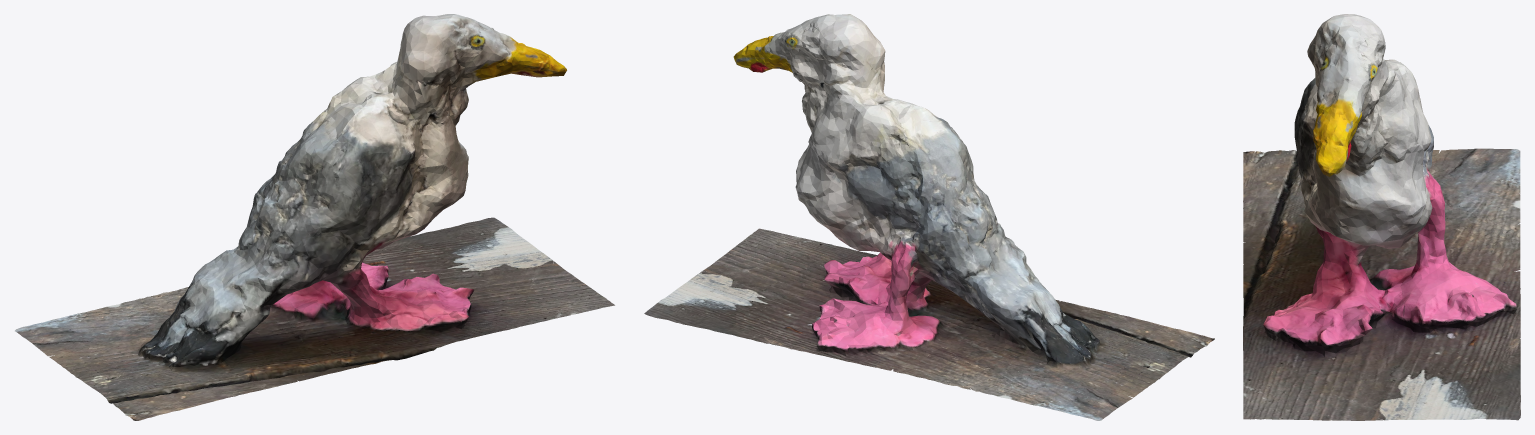
File: model_fixed.glb
The picture shows the model from 3 angles, left to right: view 1: azimuth 30°, elevation 25°; view 2: azimuth 150°, elevation 25°; view 3: azimuth 270°, elevation 25°; orthographic projection. The views are drawn at different scales.
Visible parts, largest first — view 1: Mesh_0; view 2: Mesh_0; view 3: Mesh_0.
Part boxes in pixels (box(x1,y1,x2,y2)): Mesh_0: box(15, 14, 614, 420); Mesh_0: box(644, 14, 1214, 420); Mesh_0: box(1243, 14, 1520, 420).
Bounding box in the file's own units: 0.3194 × 0.1858 × 0.1408.
Materials: 1 (1 with a texture image).
